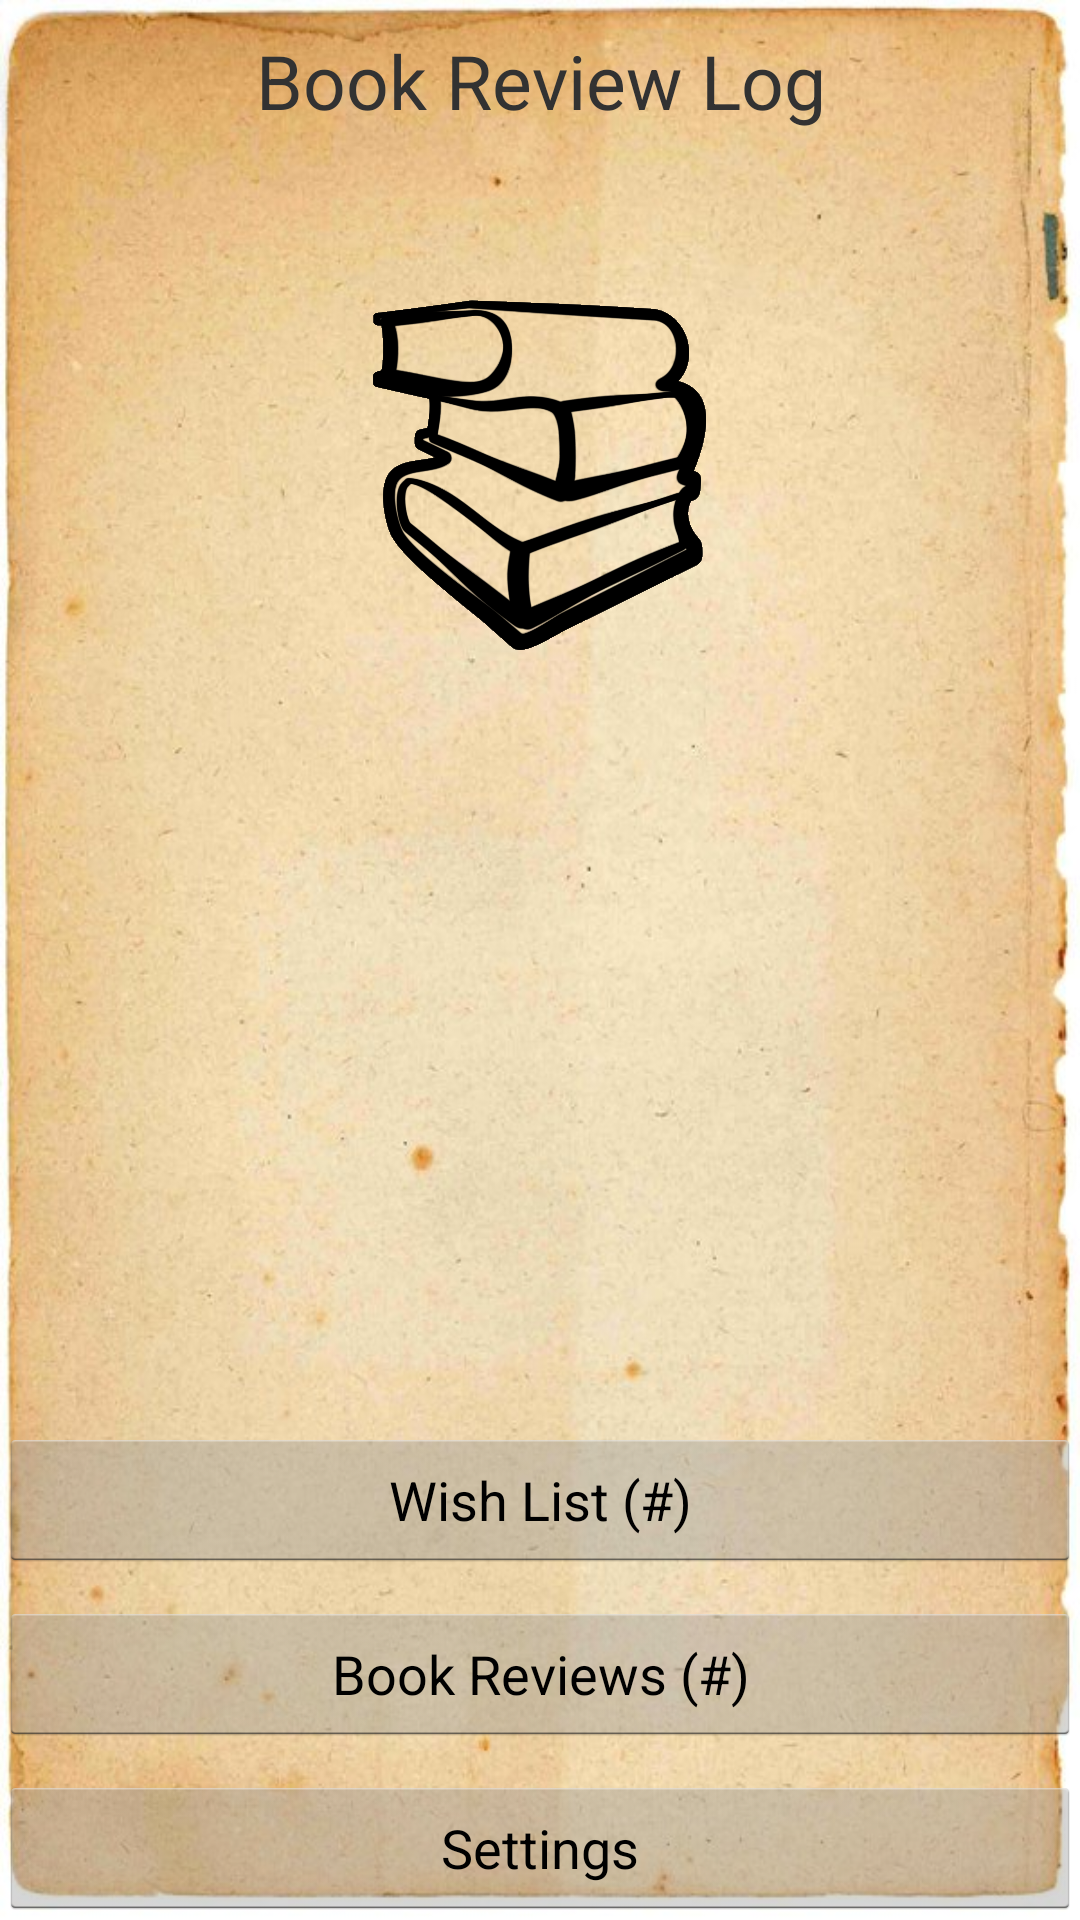

Named icons in this screenshot (1080 x 1920) and their centers, [x,y]:
book stack: [539,475]
